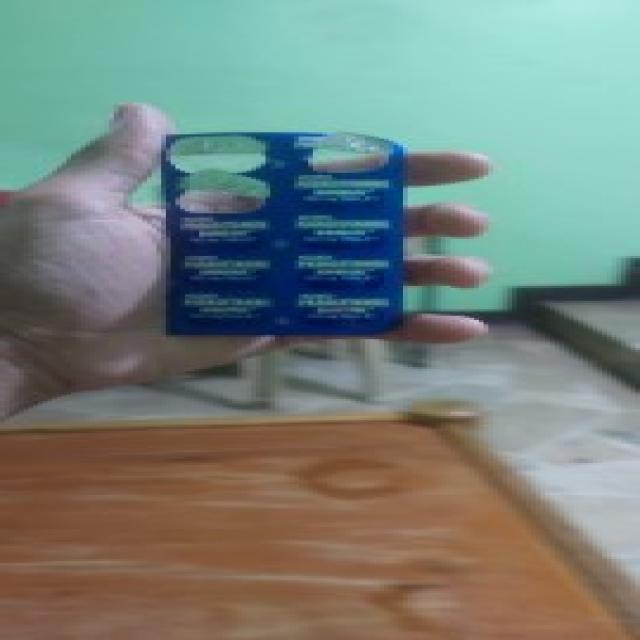Cacat: (159, 131, 415, 333)
Kemasan: (169, 134, 284, 231), (299, 131, 400, 183)
